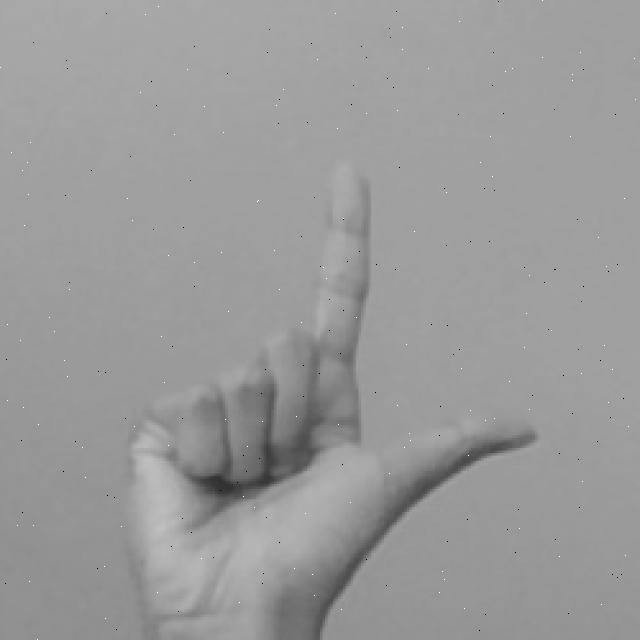L: (113, 158, 547, 640)
